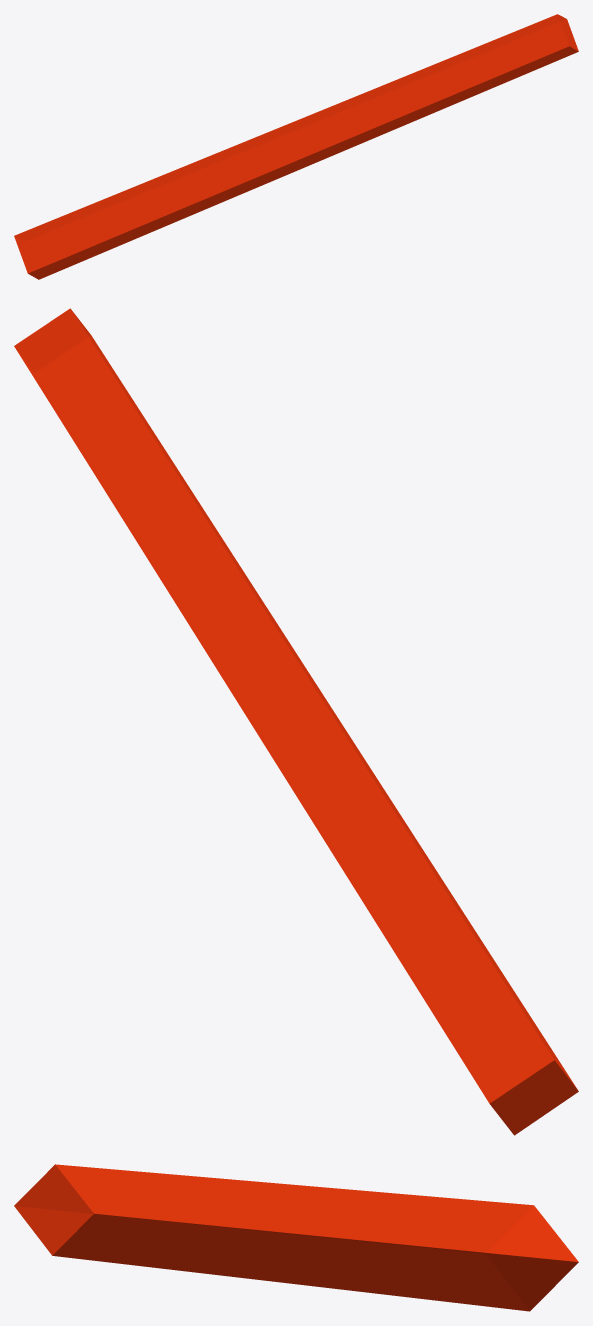
Rendered from Event_421364160_EBrechit_6.fbx.
3 views of the same model, one above another, from view 1: azimuth 30°, elevation 25°; view 2: azimuth 150°, elevation 25°; view 3: azimuth 270°, elevation 25° (orthographic). The views are drawn at different scales.
Parts seen in each view (by area): view 1: Model; view 2: Model; view 3: Model.
Part boxes in pixels (x1=…): Model: x1=14, y1=14, x2=578, y2=279; Model: x1=14, y1=308, x2=578, y2=1135; Model: x1=14, y1=1164, x2=578, y2=1311.
Size of the model in its own units: 0.7803 by 0.4722 by 0.5076.
